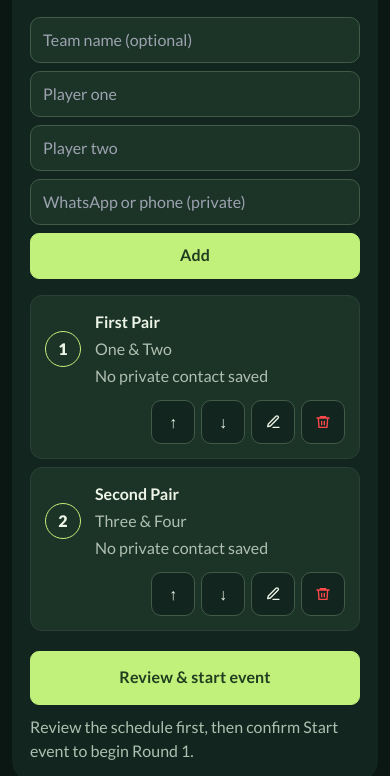
Test case: Americano setup › keeps fixed add and edit forms free of fixed-position utilities
(page scrolled)
Expected: the field with placeholder "Player one" is shown, [30, 71, 360, 117]
Click the button named "Edit" below "Two": (273, 422) [251, 400, 295, 444]
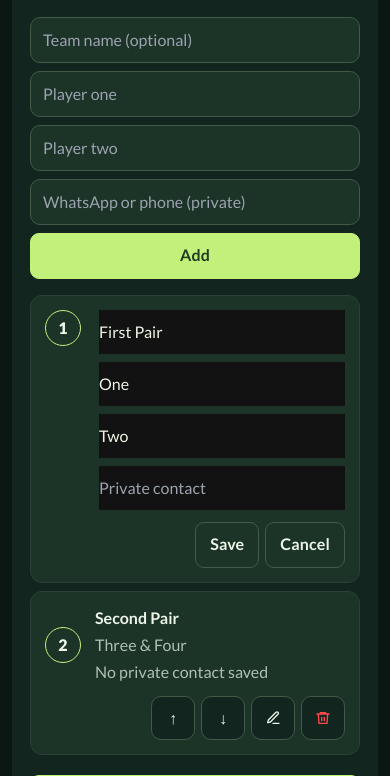
Result: the field named "Edit player one" is shown at [99, 362, 345, 406]
